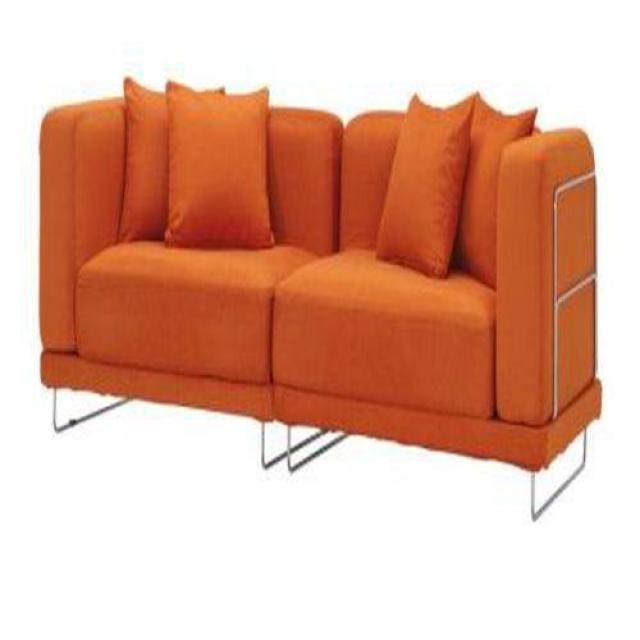sofa: (40, 79, 605, 524)
